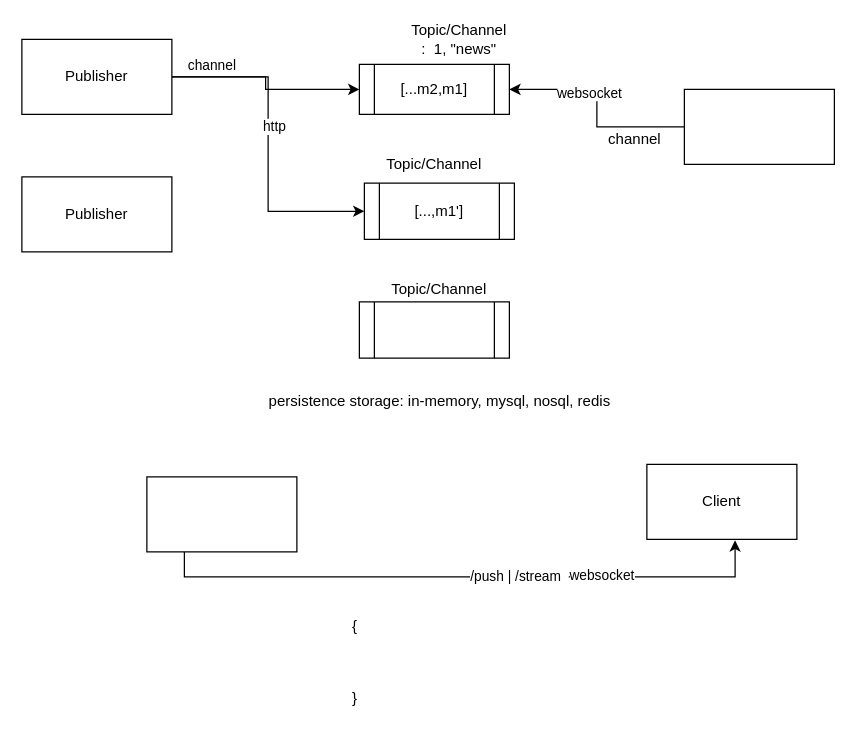
This 856x729 diagram has some shape labels left out. Each missing label, with the centre of its shape:
"[...,m4]" goes at point (433, 329).
"Server" goes at point (221, 514).
"Subscriber" goes at point (758, 126).
